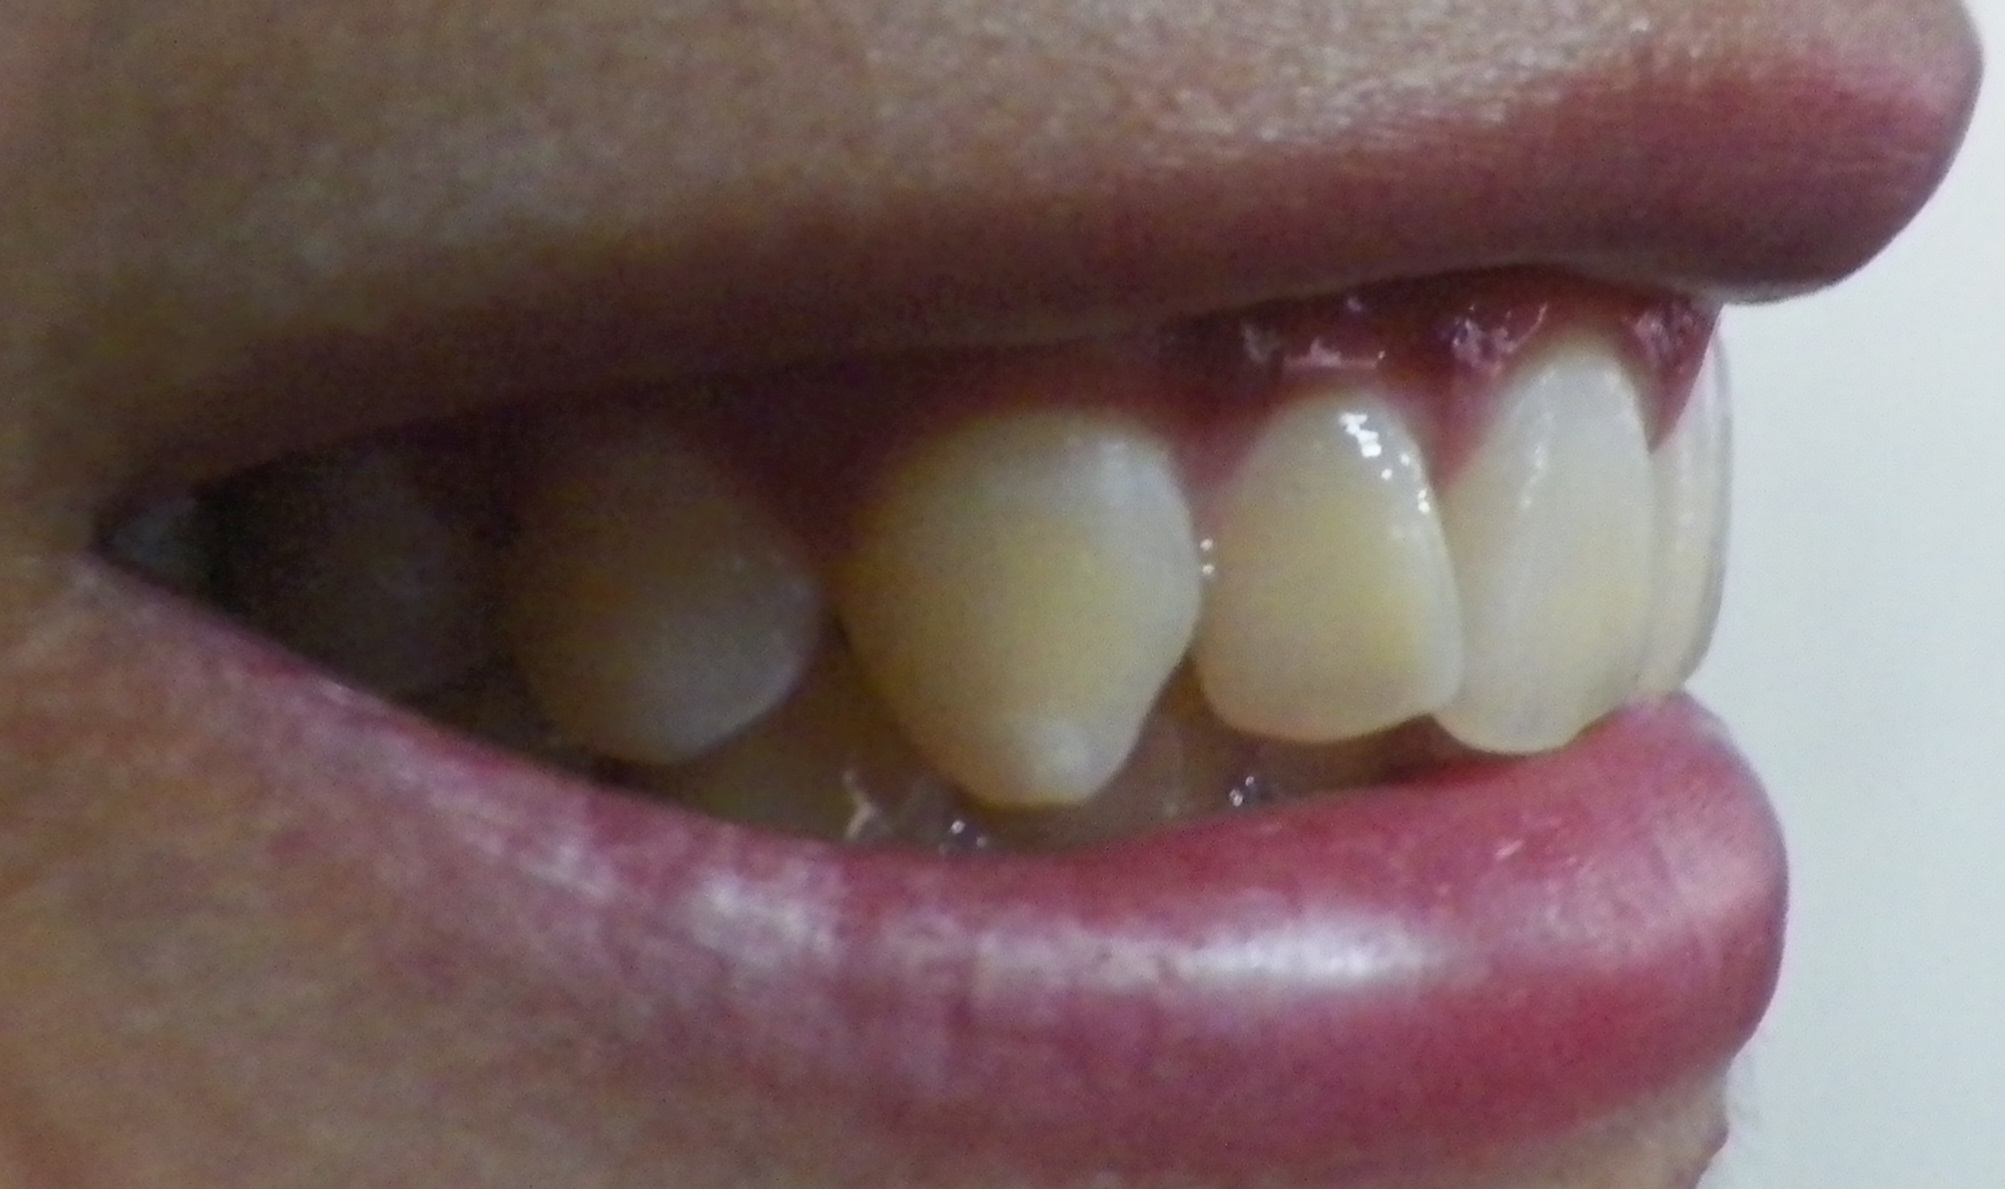boca: (253, 318, 1745, 827)
